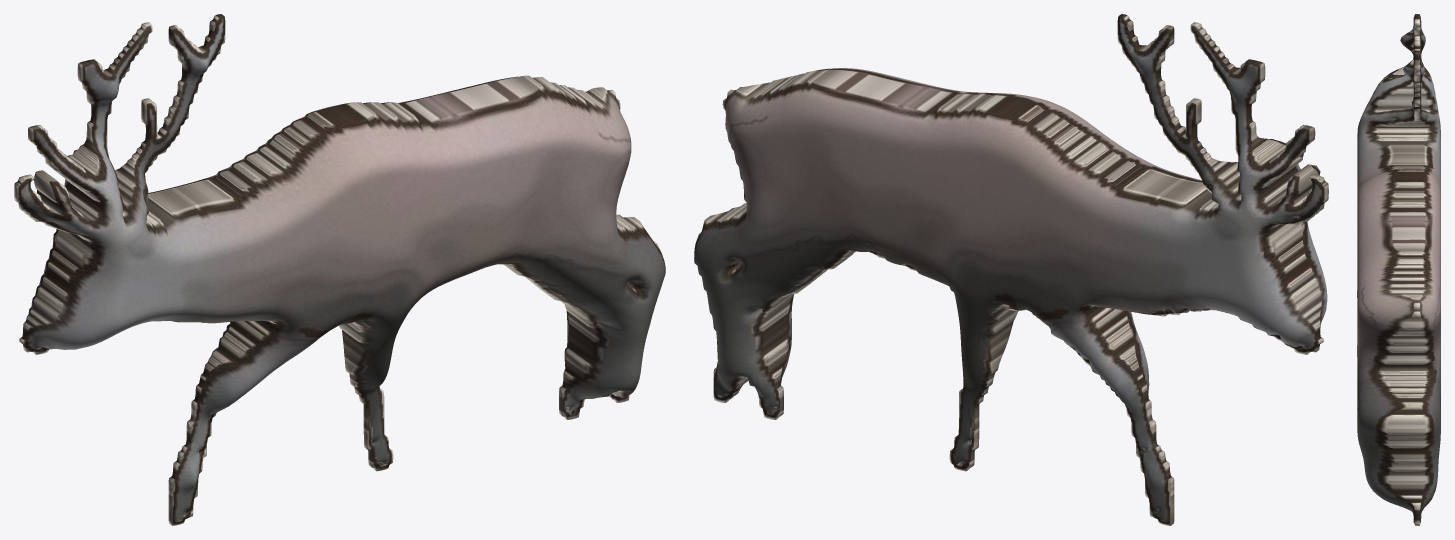
File: red_deer_10941056.glb
3 renders of one model, left to right at view 1: azimuth 30°, elevation 25°; view 2: azimuth 150°, elevation 25°; view 3: azimuth 270°, elevation 25°, orthographic. The views are drawn at different scales.
Visible parts, largest first — view 1: red_deer_10941056; view 2: red_deer_10941056; view 3: red_deer_10941056.
Boxes of the visible parts, bbox=[...] form: red_deer_10941056: bbox=[14, 14, 665, 525]; red_deer_10941056: bbox=[694, 14, 1328, 525]; red_deer_10941056: bbox=[1357, 14, 1440, 525].
Size of the model in its own units: 1.97 by 1.52 by 0.3279.
Materials: 1 (1 with a texture image).
